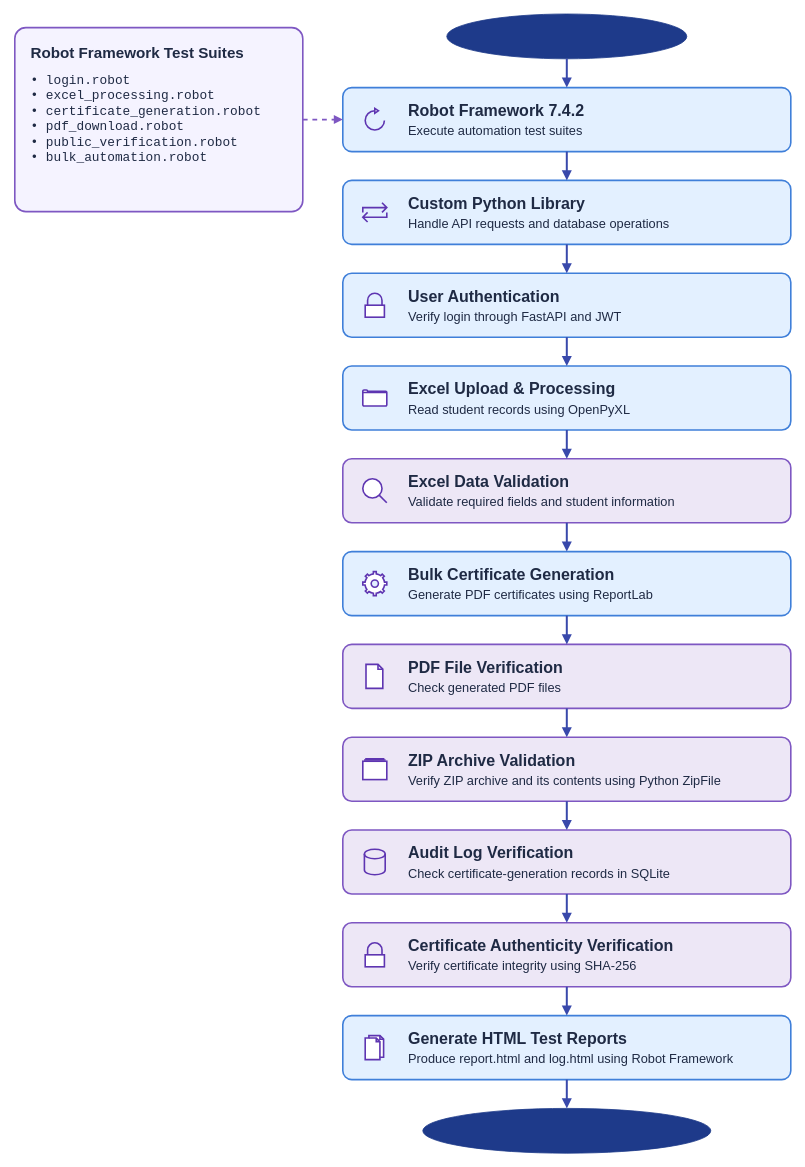
The diagram is 805 pixels wide and 1167 high, and some of its shapes have lost their labels. The centre of each missing label's shape, as x and y in pixels:
"End – Automation Completed" goes at pixel 566 1130.
"Start RPA Automation" goes at pixel 566 36.
